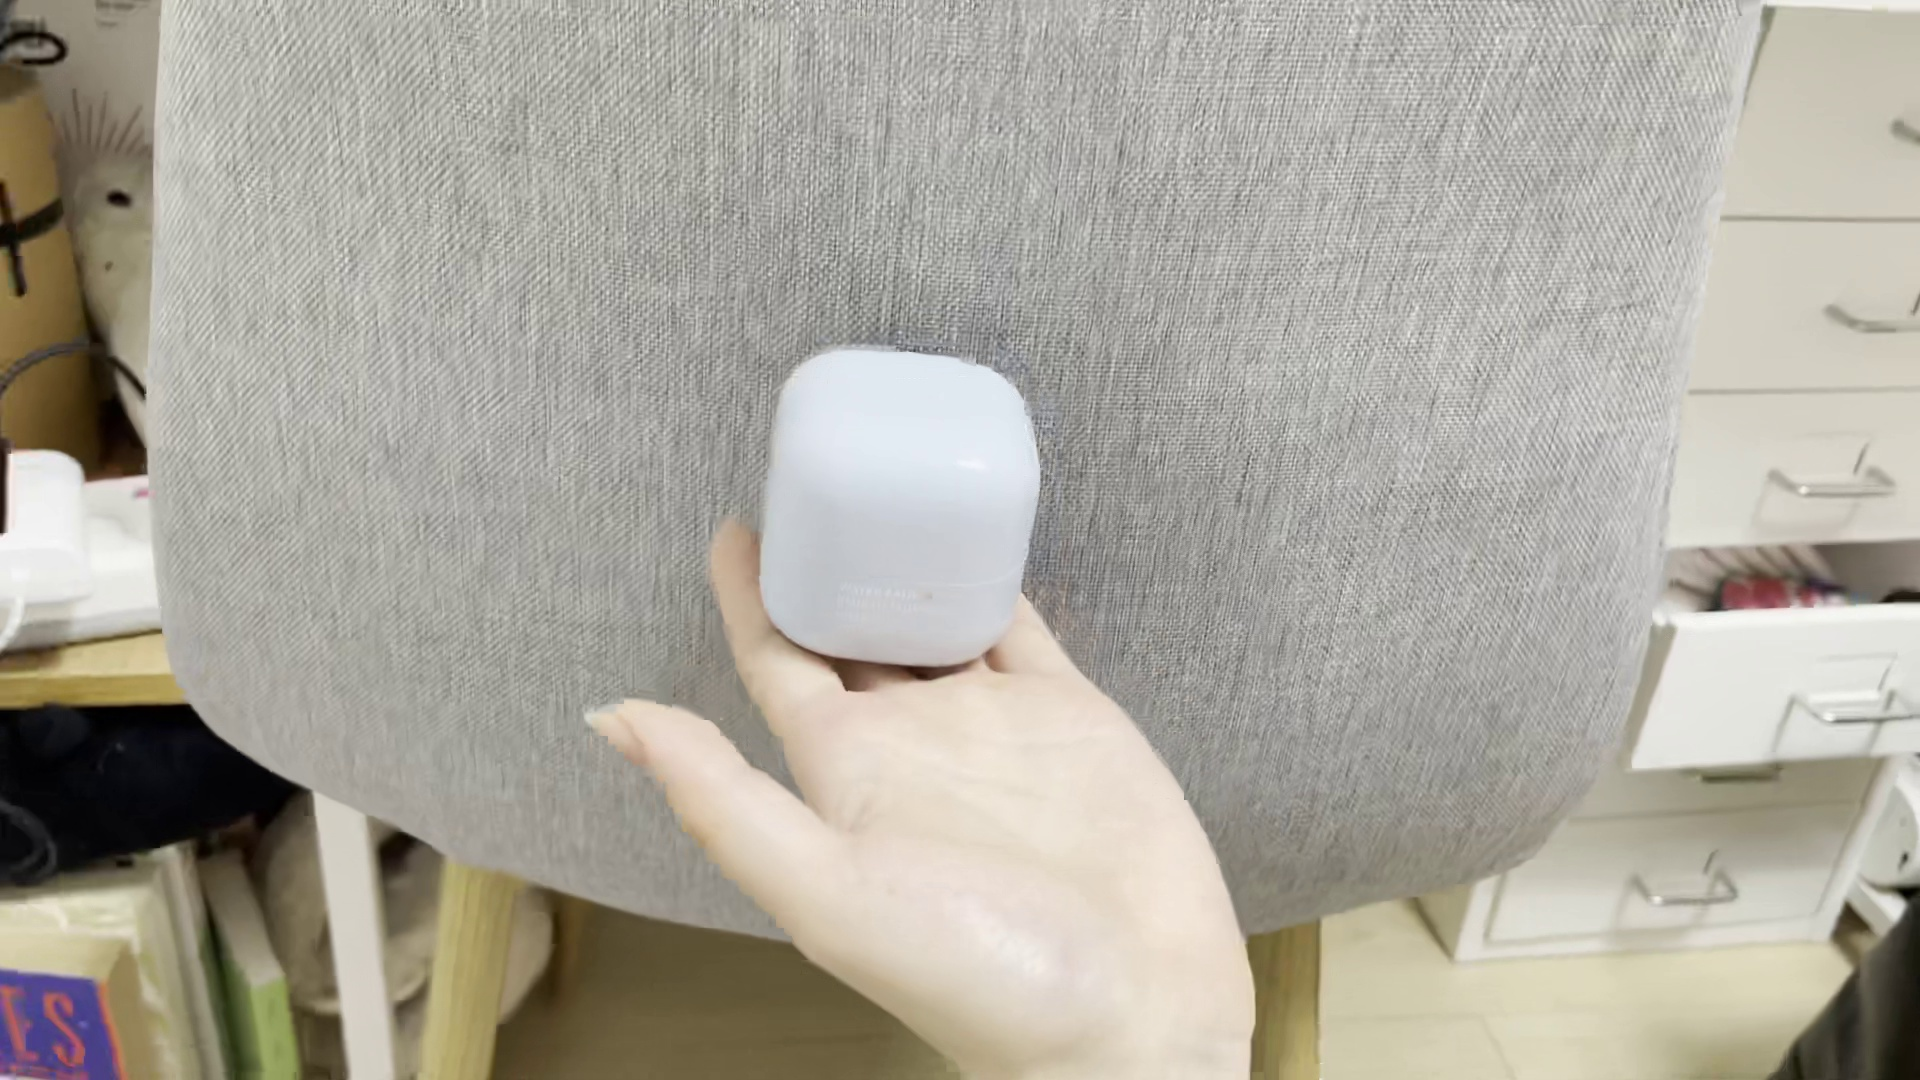cream: (760, 348, 1044, 666)
